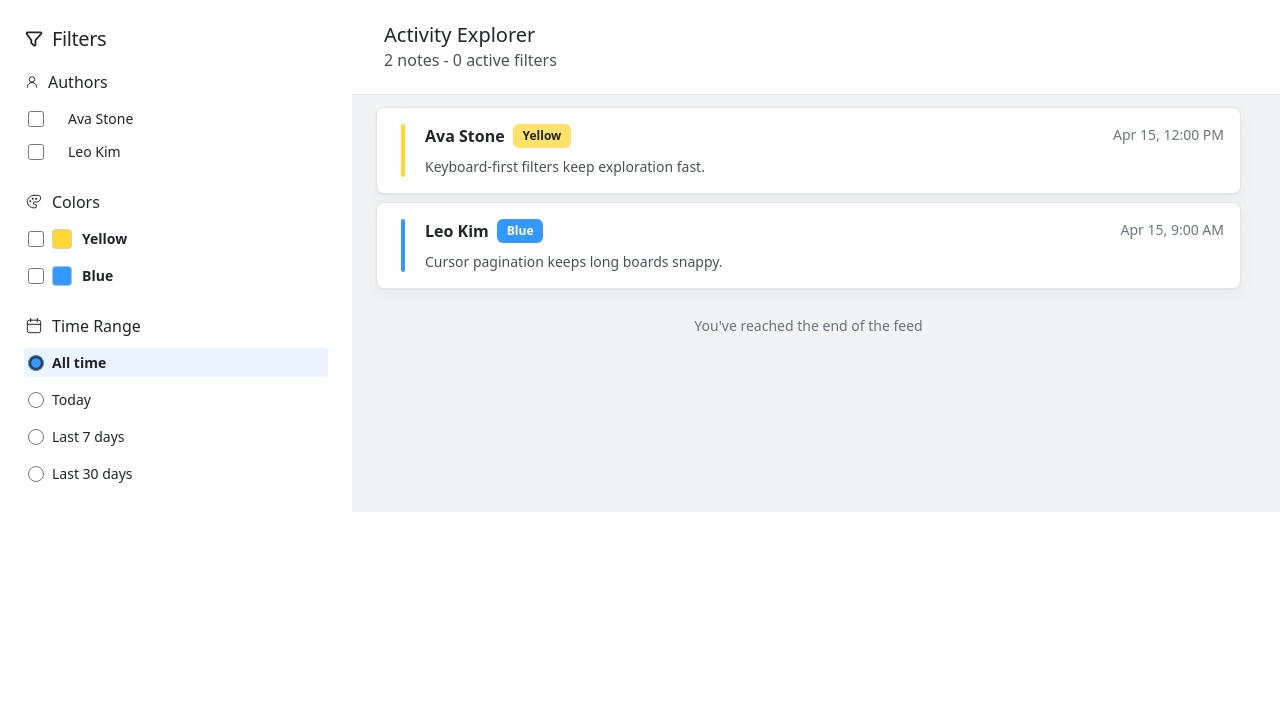
Test: ActivityExplorerPage a11y › has no critical axe violations with mobile note details dialog open
The width and height of the screenshot is (1280, 720).
What coordinates should you click on to do the following:
click the button with aria-label "note from ava stone"
I would click on:
 (465, 136)
Its box is left=376, top=107, right=1241, bottom=194.
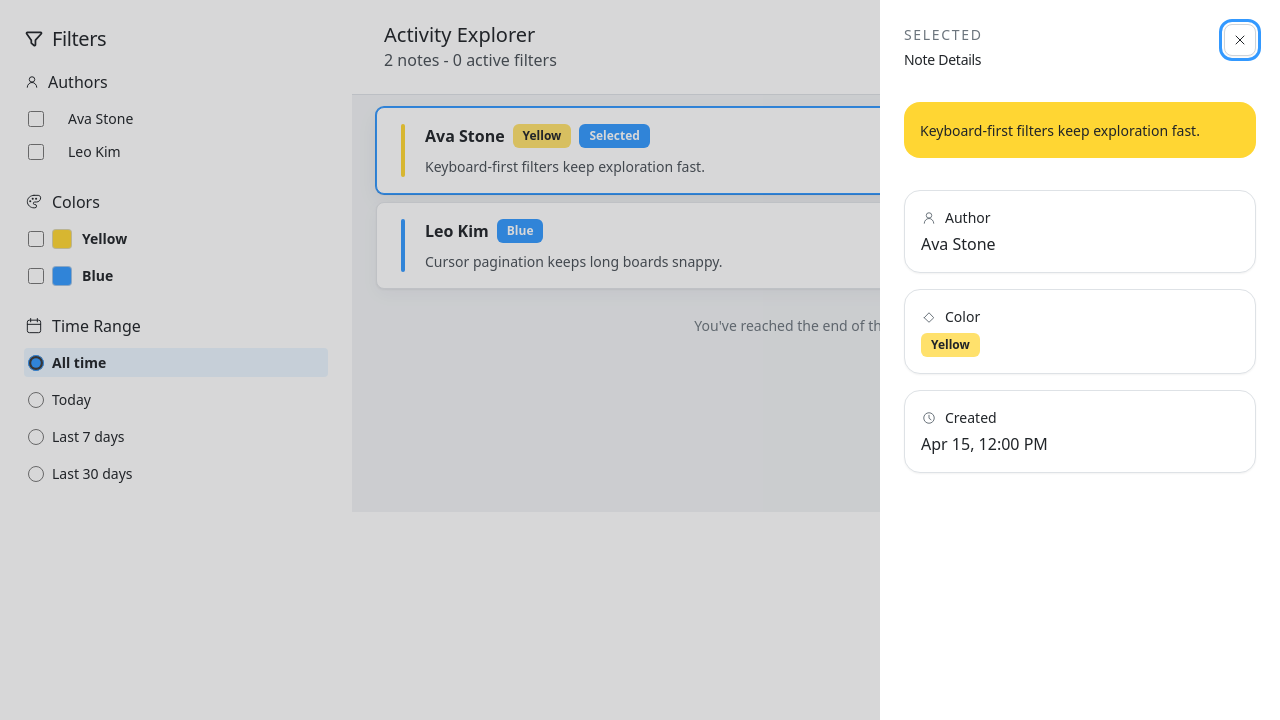
Check: the dialog "Note Details" is shown, box left=880, top=0, right=1279, bottom=719
